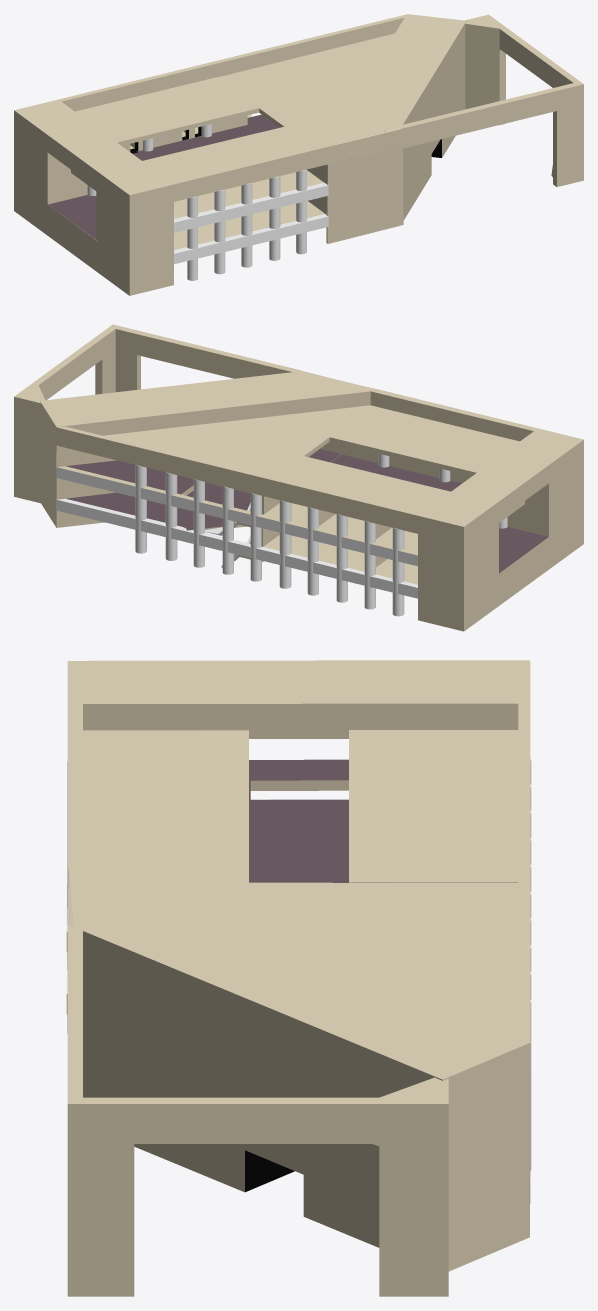
The picture shows the model from 3 angles, top to bottom: view 1: azimuth 30°, elevation 25°; view 2: azimuth 150°, elevation 25°; view 3: azimuth 270°, elevation 25°; orthographic projection. The views are drawn at different scales.
Parts seen in each view (by area): view 1: Cube, Cube.019, Pilar 4, Pilar 3, Pilar 2, Pilar 5, Pilar 1; view 2: Cube, Cube.019, Pilar 14, Pilar 10, Pilar 6, Pilar 9, Pilar 7, Pilar 13, Pilar 15, Pilar 11, Pilar 12, Pilar 8; view 3: Cube, Cube.019.
Part boxes in pixels (x1=…): Cube: x1=14, y1=14, x2=466, y2=295; Cube.019: x1=398, y1=14, x2=583, y2=186; Pilar 4: x1=214, y1=189, x2=225, y2=274; Pilar 3: x1=241, y1=183, x2=252, y2=267; Pilar 2: x1=269, y1=176, x2=280, y2=260; Pilar 5: x1=187, y1=196, x2=197, y2=280; Pilar 1: x1=296, y1=169, x2=306, y2=254; Cube: x1=40, y1=371, x2=583, y2=631; Cube.019: x1=14, y1=324, x2=301, y2=503; Pilar 14: x1=165, y1=472, x2=177, y2=560; Pilar 10: x1=279, y1=500, x2=291, y2=588; Pilar 6: x1=392, y1=528, x2=404, y2=616; Pilar 9: x1=307, y1=507, x2=318, y2=595; Pilar 7: x1=364, y1=521, x2=375, y2=609; Pilar 13: x1=193, y1=479, x2=204, y2=567; Pilar 15: x1=135, y1=465, x2=146, y2=553; Pilar 11: x1=250, y1=493, x2=261, y2=581; Pilar 12: x1=222, y1=486, x2=233, y2=574; Pilar 8: x1=336, y1=514, x2=347, y2=602; Cube: x1=66, y1=660, x2=530, y2=1271; Cube.019: x1=67, y1=926, x2=448, y2=1296.
Size of the model in its own units: 59362 by 12786 by 26300.
